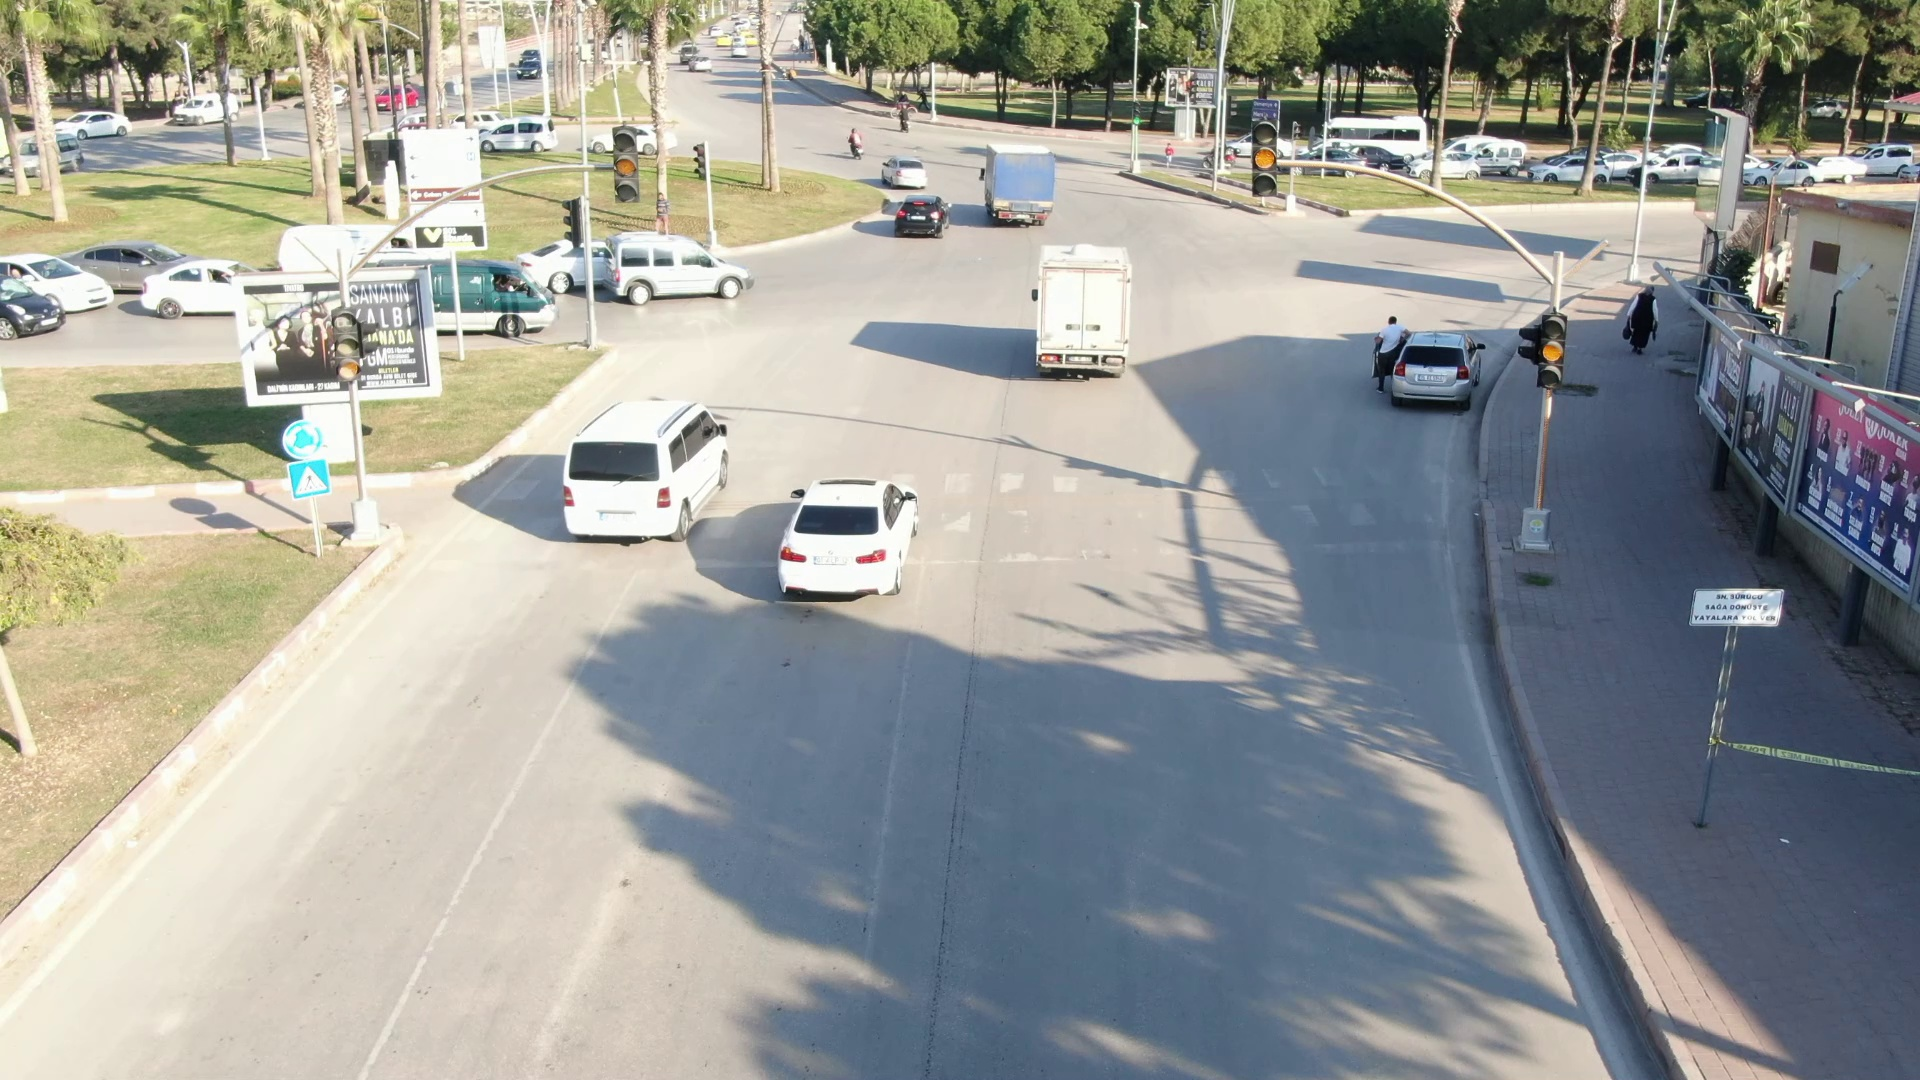car: (552, 380, 741, 561), (760, 461, 926, 609), (1005, 226, 1152, 385), (596, 227, 760, 305), (970, 130, 1070, 231), (1391, 325, 1488, 415), (890, 190, 956, 244), (876, 153, 935, 191)
person: (1618, 283, 1664, 357), (1367, 307, 1403, 392)
